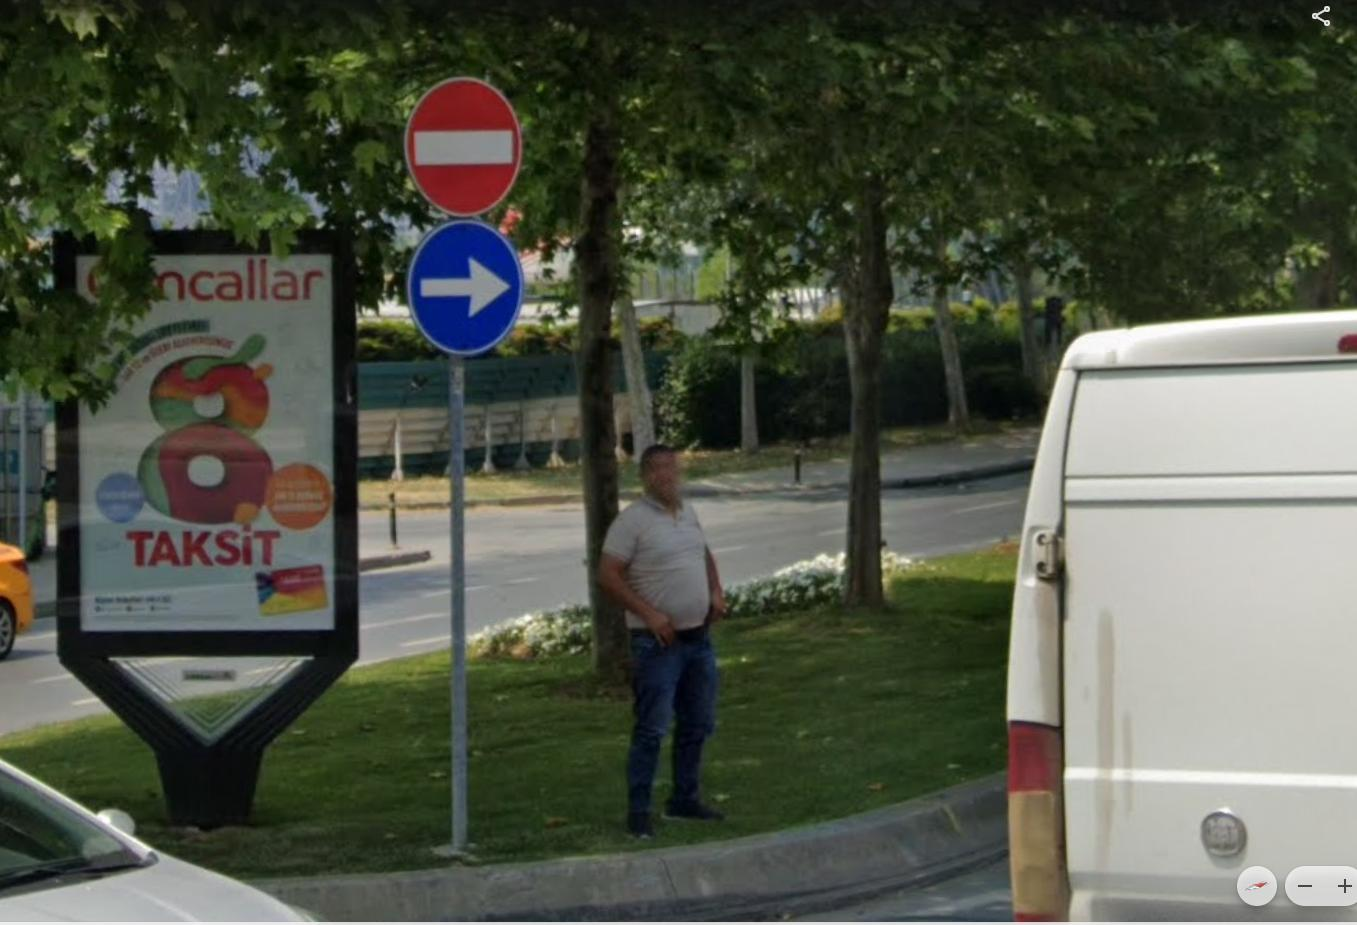turnright: (410, 224, 520, 343)
